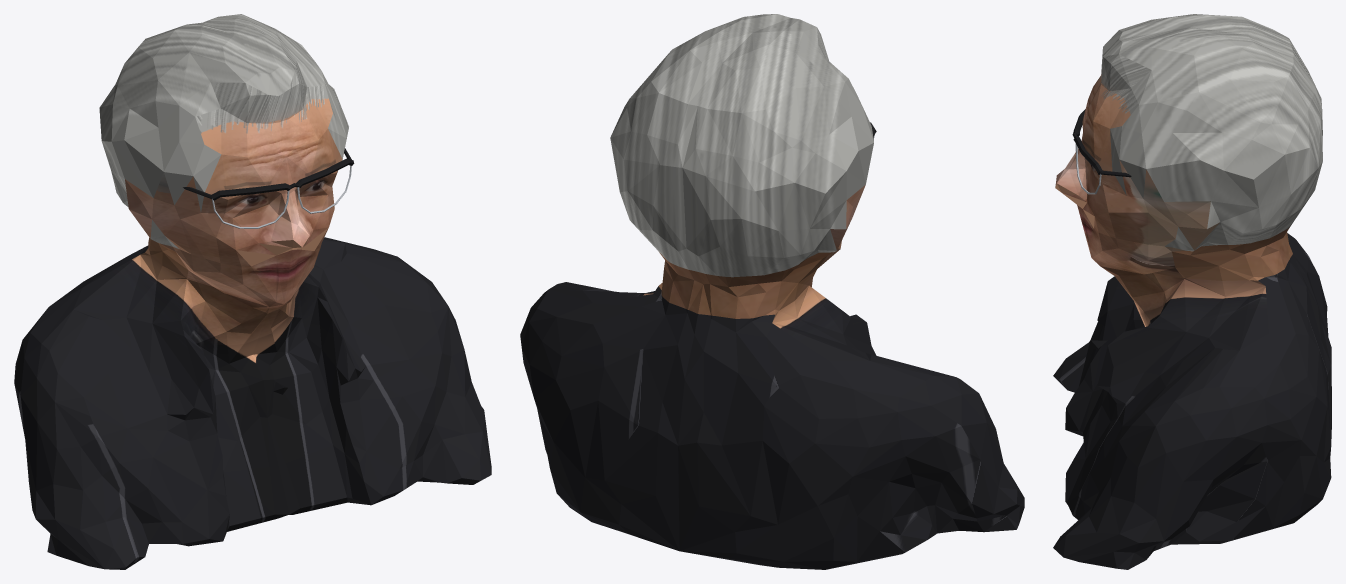
Rendered from jensen_open.glb.
The picture shows the model from 3 angles, left to right: view 1: azimuth 30°, elevation 25°; view 2: azimuth 150°, elevation 25°; view 3: azimuth 270°, elevation 25°; orthographic projection. The views are drawn at different scales.
Visible parts, largest first — view 1: jensen_n64; view 2: jensen_n64; view 3: jensen_n64.
Part boxes in pixels (box(x1,y1,x2,y2)): jensen_n64: box(14, 14, 491, 569); jensen_n64: box(520, 14, 1024, 569); jensen_n64: box(1053, 14, 1331, 569).
Size of the model in its own units: 2.31 by 2.2 by 1.26.
3 materials, 1 textured.
